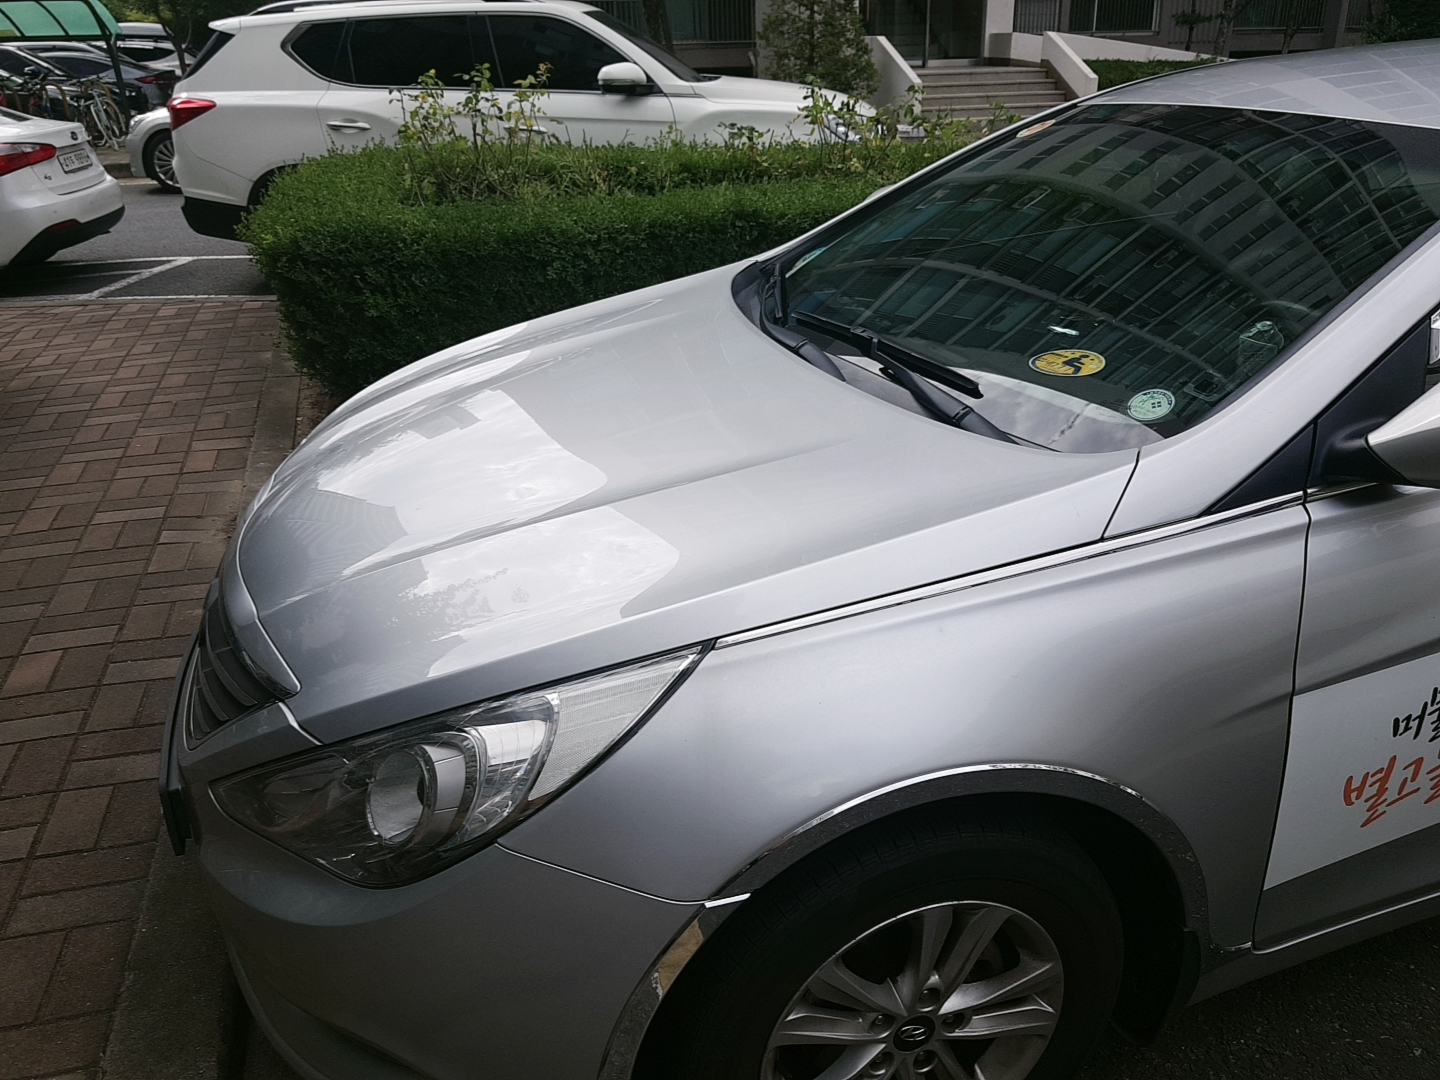apart_parking: (1129, 386, 1180, 427)
disabled_parking: (1031, 337, 1113, 382)
